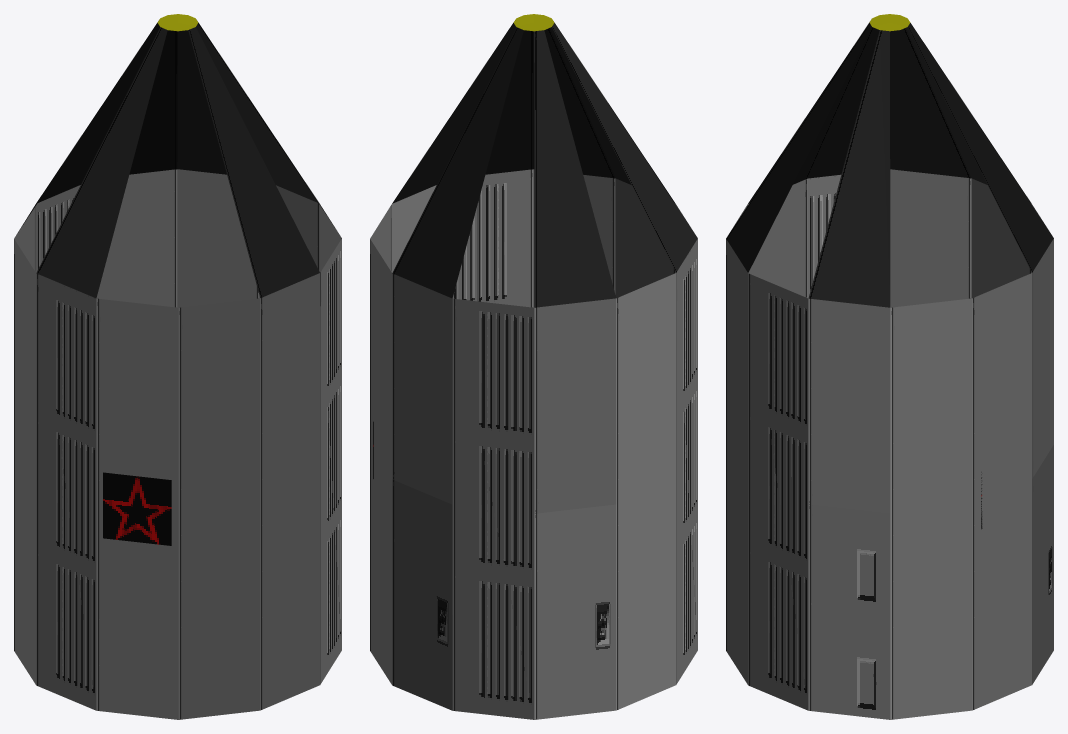
File: primary_084.glb
3 renders of one model, left to right at view 1: azimuth 30°, elevation 25°; view 2: azimuth 150°, elevation 25°; view 3: azimuth 270°, elevation 25°, orthographic.
Visible parts, largest first — view 1: Object; view 2: Object; view 3: Object.
Part boxes in pixels (x1,y1,x2,y2): Object: (14, 14, 341, 719); Object: (370, 14, 697, 719); Object: (726, 14, 1053, 719).
Bounding box in the file's own units: 1.68 × 3.56 × 1.68.
Materials: 32 (32 with a texture image).
